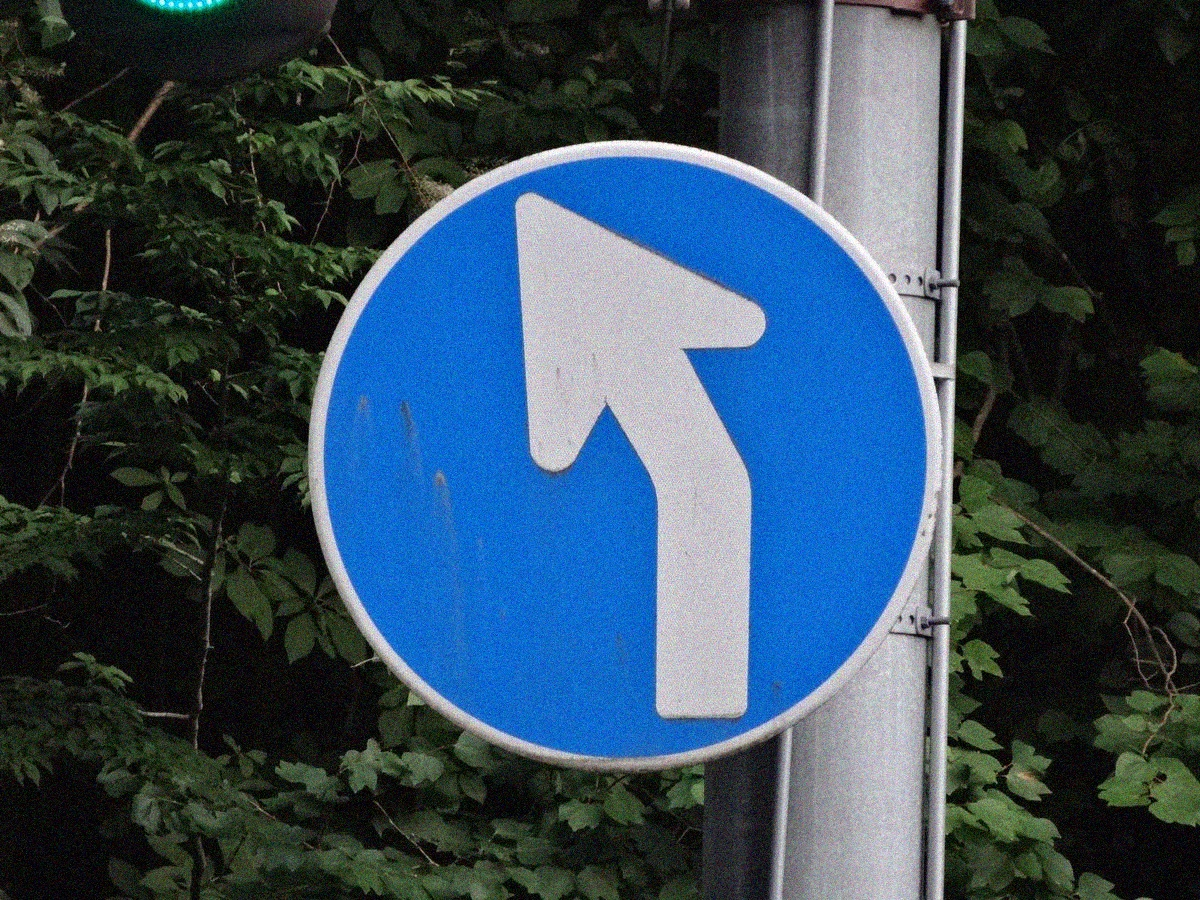Direction_sign: (265, 135, 969, 759)
